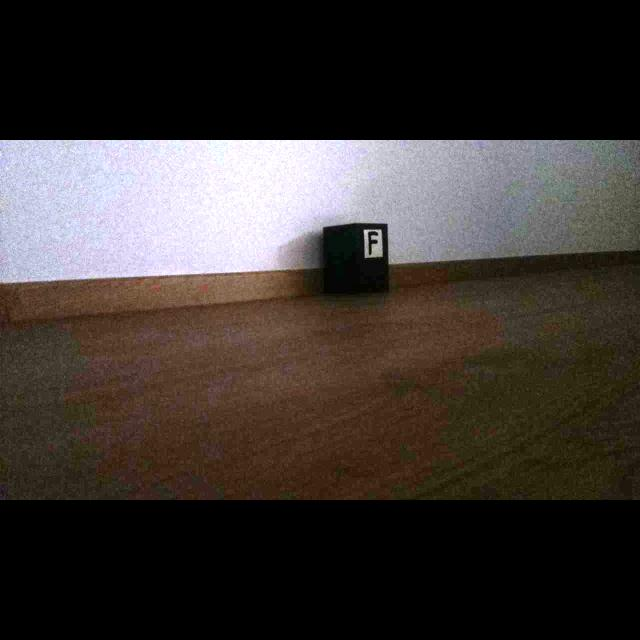F: (368, 231, 379, 255)
